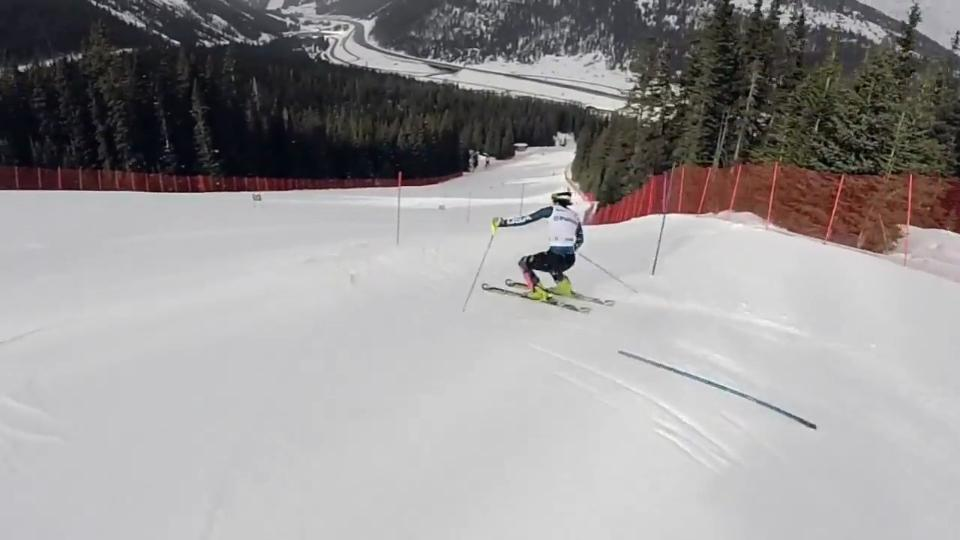gate: (594, 332, 845, 462)
